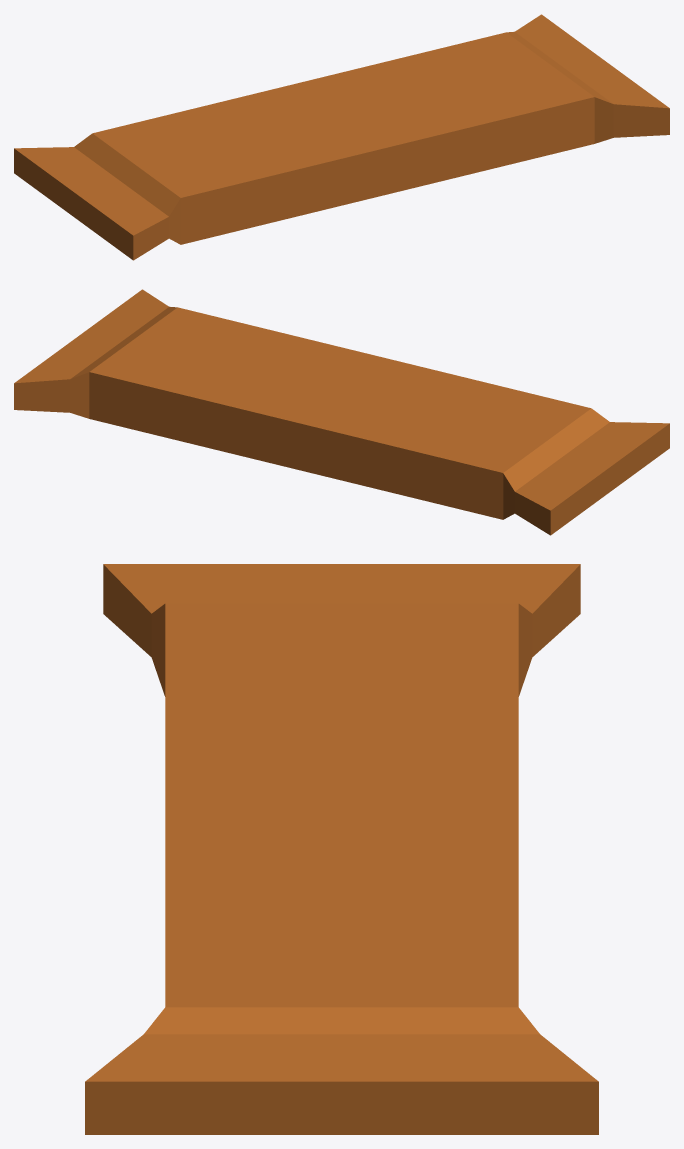
File: Model_Batonik_1.fbx
3 views of the same model, one above another, from view 1: azimuth 30°, elevation 25°; view 2: azimuth 150°, elevation 25°; view 3: azimuth 270°, elevation 25° (orthographic). The views are drawn at different scales.
Visible parts, largest first — view 1: Mesh_Batonik_1; view 2: Mesh_Batonik_1; view 3: Mesh_Batonik_1.
Part boxes in pixels (x1=…): Mesh_Batonik_1: x1=14, y1=14, x2=669, y2=260; Mesh_Batonik_1: x1=14, y1=289, x2=669, y2=535; Mesh_Batonik_1: x1=85, y1=564, x2=598, y2=1134.
Size of the model in its own units: 8.19 by 1.65 by 19.59.
